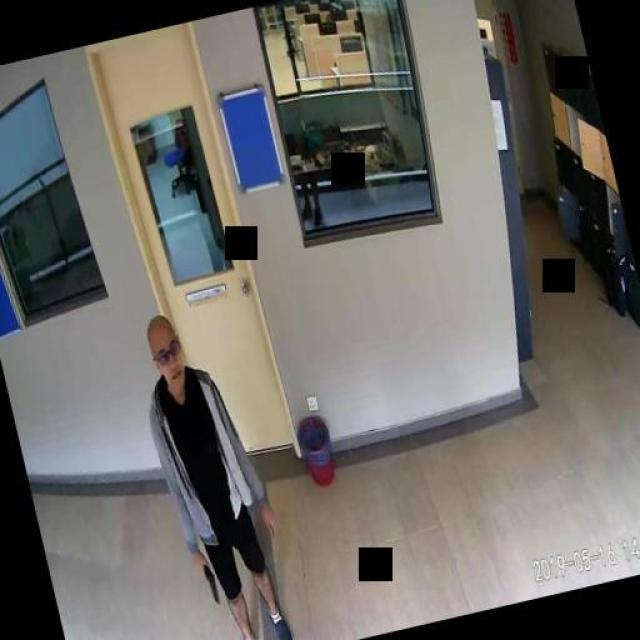gun: (198, 555, 218, 604)
